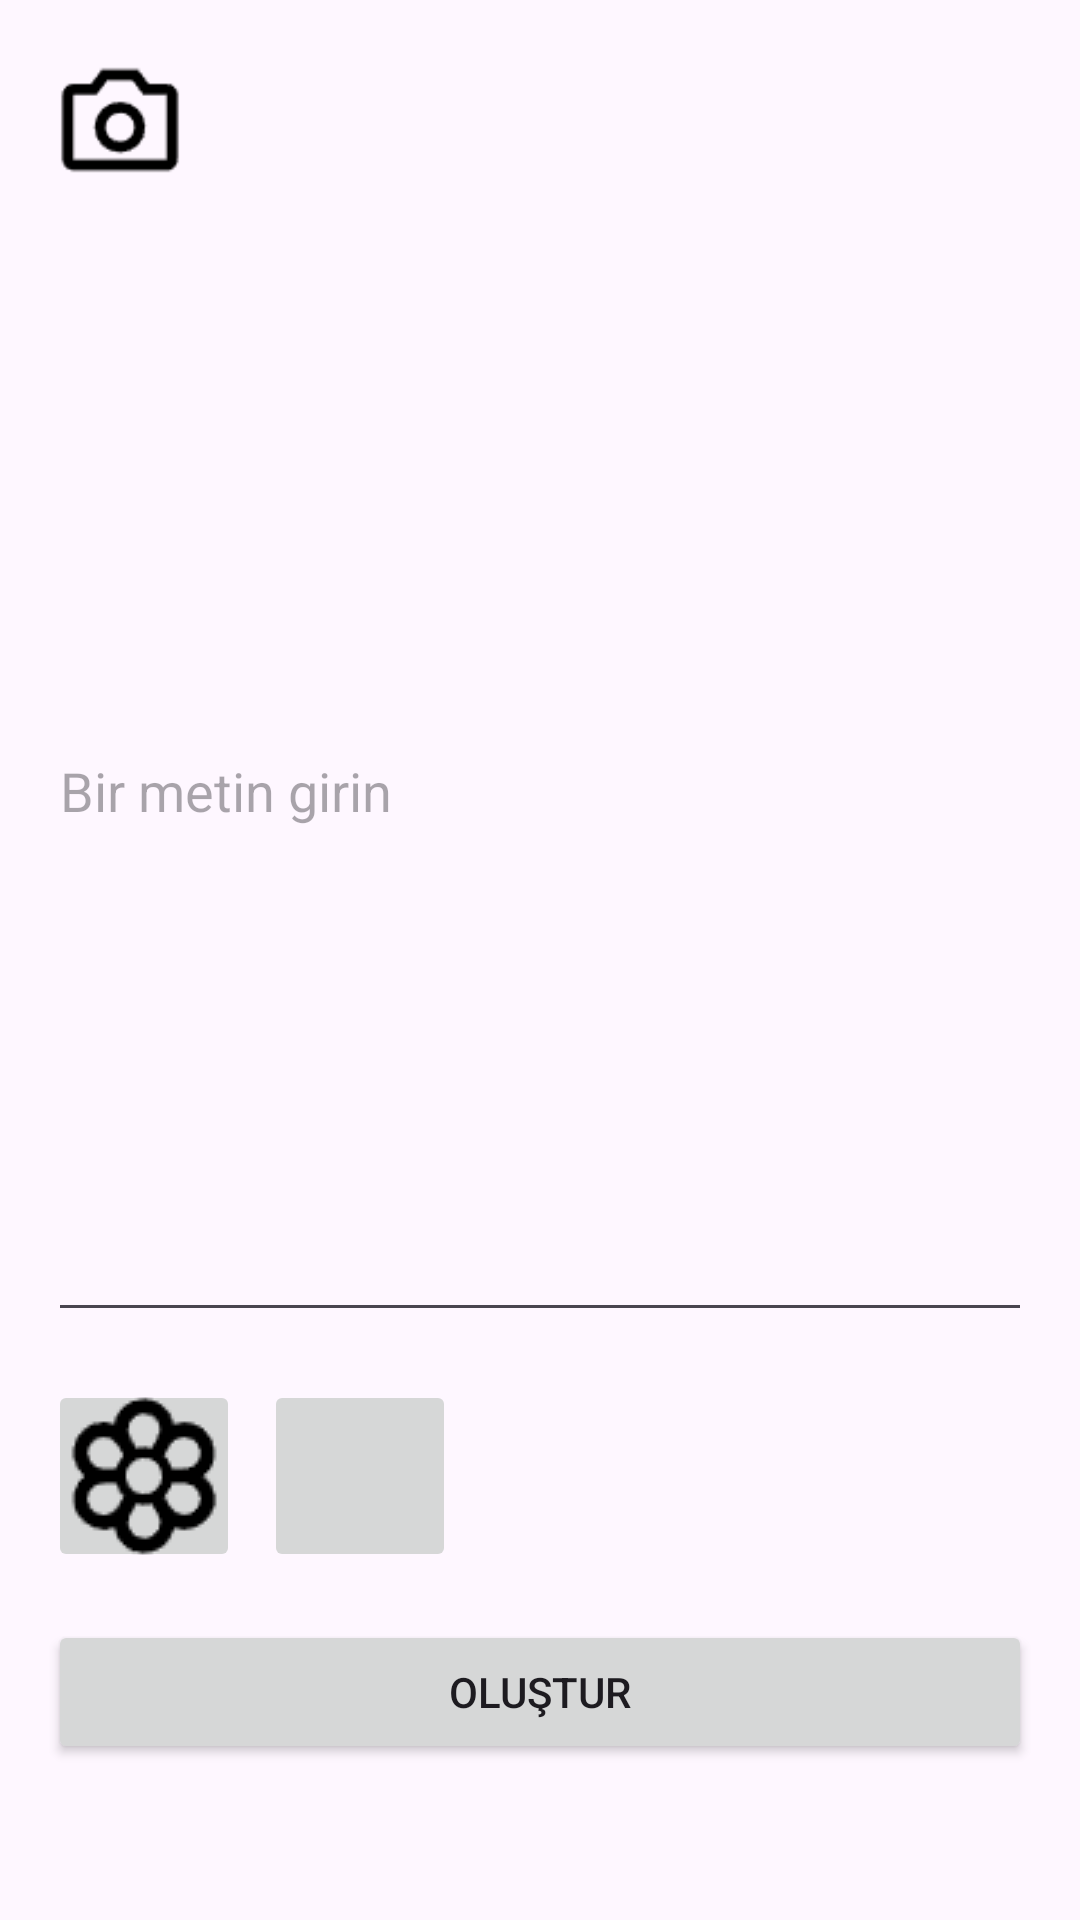

Named icons in this screenshot (1080 × 1920) and their centers, [x,y]:
Fotoğraf Seç: [120,120]
